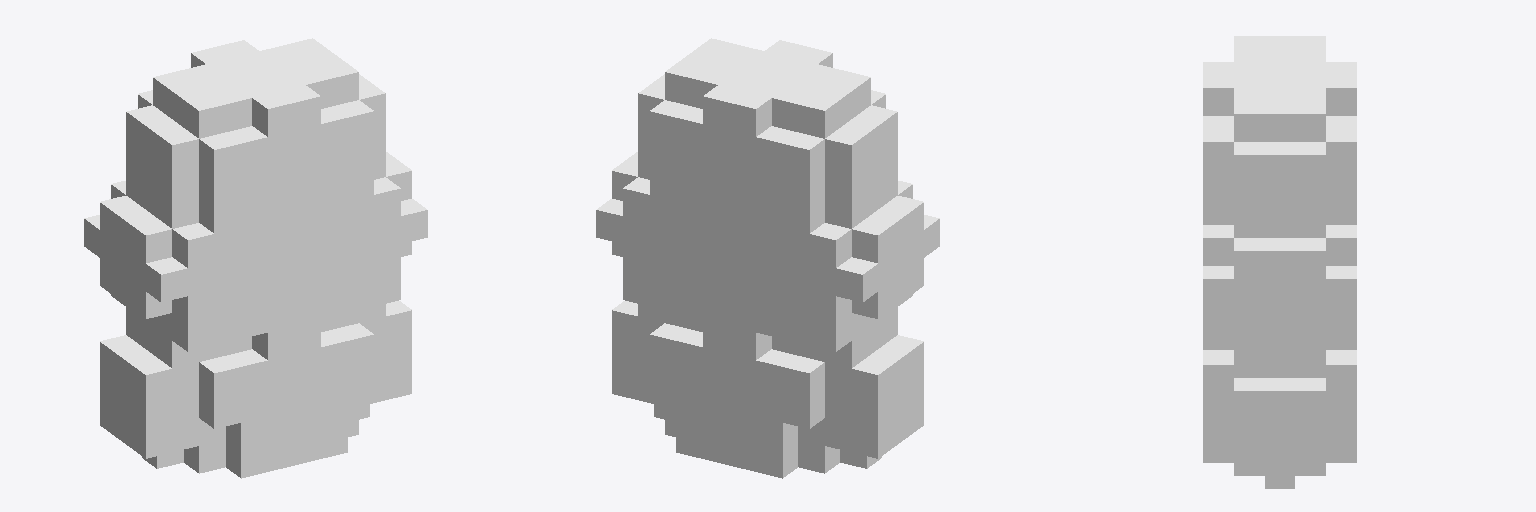
File: white_robe.obj
3 views of the same model, side by side, from view 1: azimuth 30°, elevation 25°; view 2: azimuth 150°, elevation 25°; view 3: azimuth 270°, elevation 25° (orthographic).
Parts seen in each view (by area): view 1: white_robe; view 2: white_robe; view 3: white_robe.
Part boxes in pixels (left/top/right/bottom): white_robe: left=84, top=38, right=427, bottom=478; white_robe: left=596, top=38, right=939, bottom=478; white_robe: left=1203, top=36, right=1356, bottom=488.
Bounding box in the file's own units: 10 × 13 × 5.